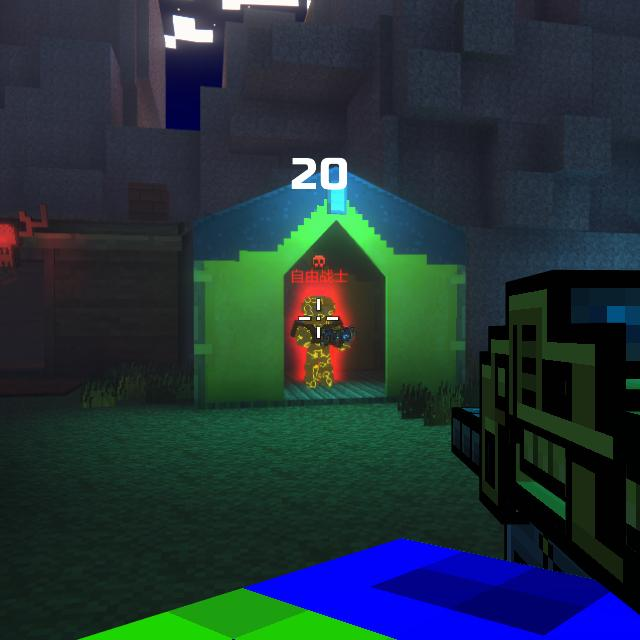Enemy: (291, 295, 355, 388)
